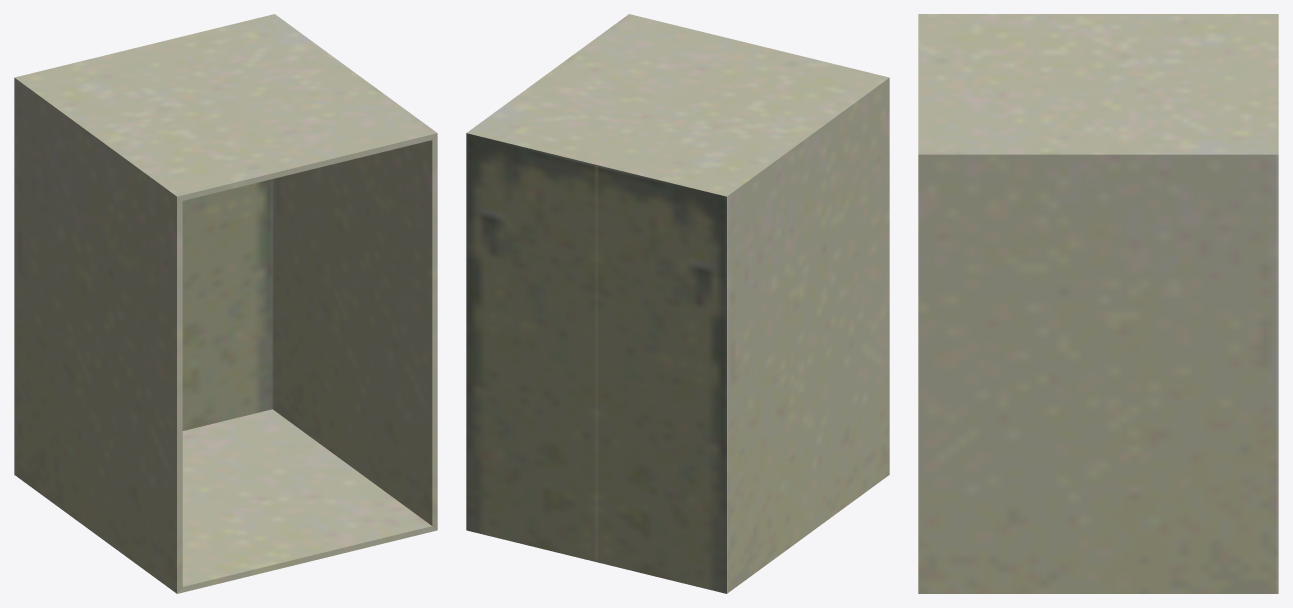
File: file_cabinet_smallest_open.obj
3 views of the same model, side by side, from view 1: azimuth 30°, elevation 25°; view 2: azimuth 150°, elevation 25°; view 3: azimuth 270°, elevation 25° (orthographic). The views are drawn at different scales.
Parts seen in each view (by area): view 1: file_cabinet_smallest_open; view 2: file_cabinet_smallest_open; view 3: file_cabinet_smallest_open.
Part boxes in pixels (bbox=[...]): file_cabinet_smallest_open: bbox=[14, 14, 437, 593]; file_cabinet_smallest_open: bbox=[466, 14, 889, 593]; file_cabinet_smallest_open: bbox=[918, 14, 1278, 593].
Bounding box in the file's own units: 0.4847 × 0.7064 × 0.5246.
